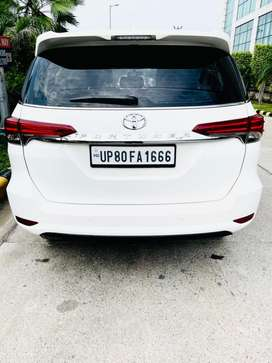UP80FA1666: (91, 145, 174, 165)
